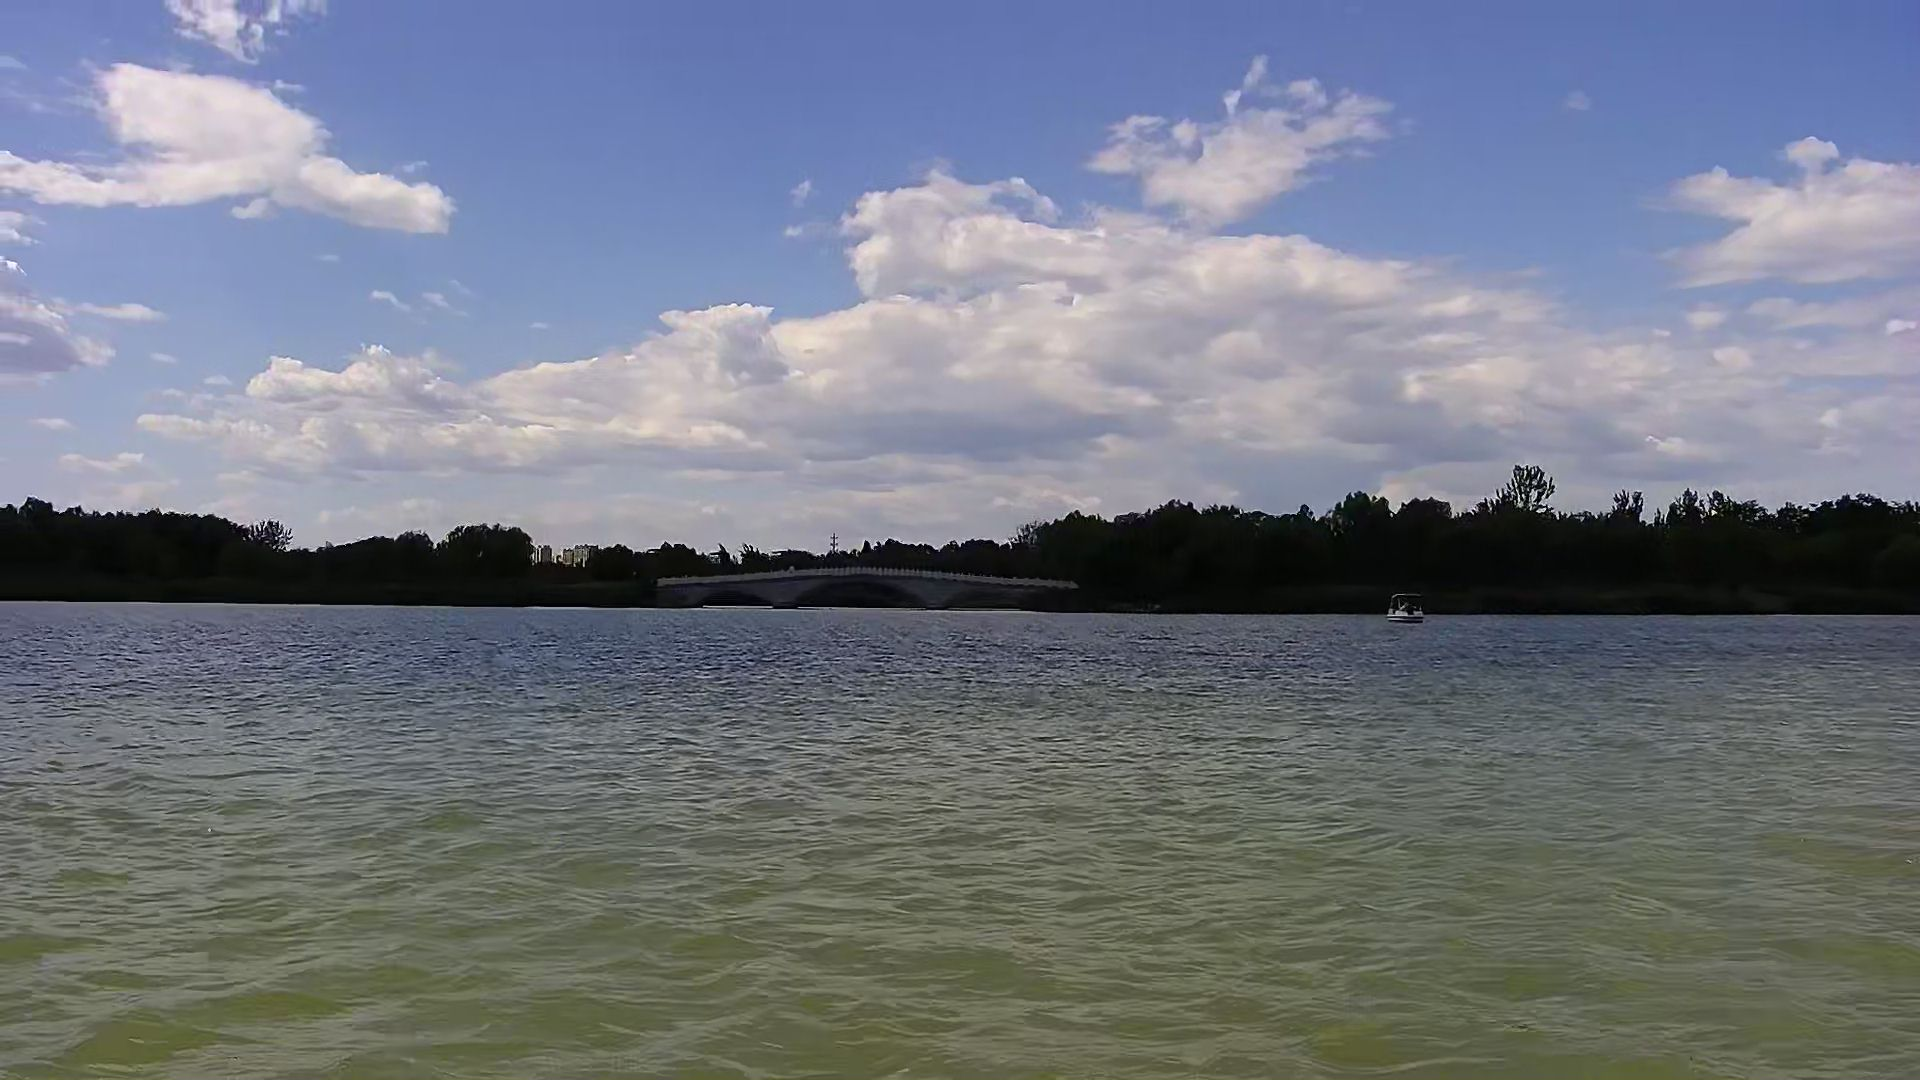boat: (1379, 582, 1437, 630)
bridge: (651, 563, 1083, 612)
